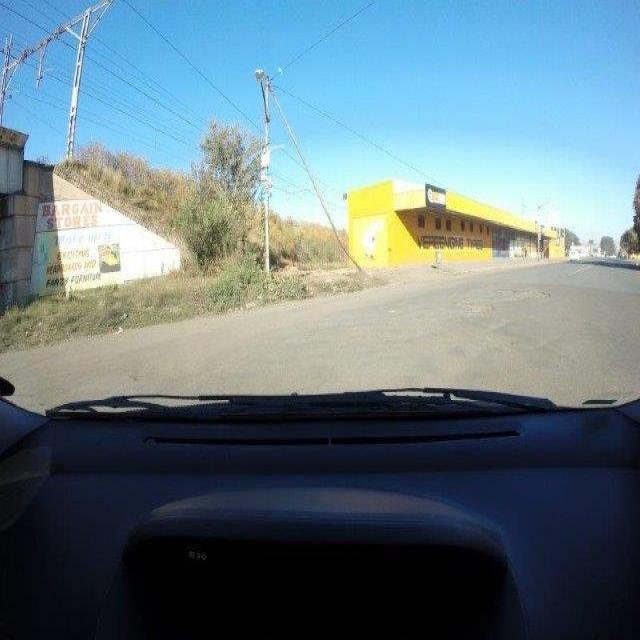jalan retak: (597, 318, 632, 378)
lubang: (508, 282, 553, 306), (464, 294, 497, 318)
